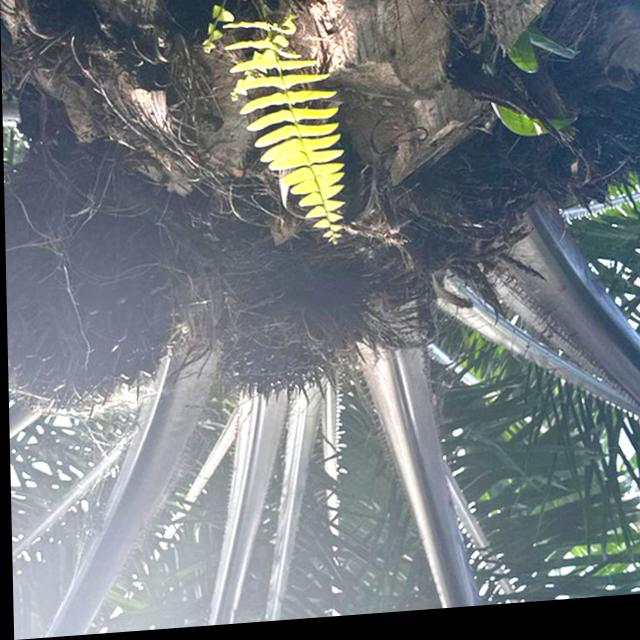unripe: (3, 127, 197, 432), (203, 262, 382, 428)
